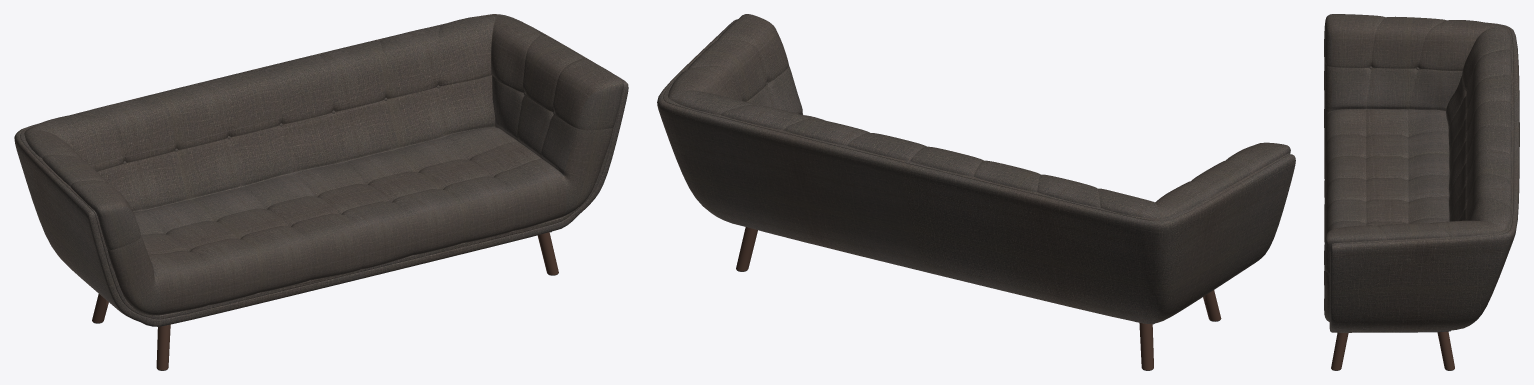
The model's file is 2a21836a-3e98-488e-bf2e-1139f5720ece.glb.
3 views of the same model, side by side, from view 1: azimuth 30°, elevation 25°; view 2: azimuth 150°, elevation 25°; view 3: azimuth 270°, elevation 25° (orthographic). The views are drawn at different scales.
Parts seen in each view (by area): view 1: Chair, Chair_Back, polySurface13, polySurface17; view 2: Chair_Back, Chair, polySurface19, polySurface18; view 3: Chair, Chair_Back, polySurface18, polySurface17.
Boxes of the visible parts, x1,y1,x2,y2 form: Chair: [24, 15, 623, 315]; Chair_Back: [14, 14, 628, 326]; polySurface13: [156, 324, 170, 370]; polySurface17: [537, 232, 558, 274]; Chair_Back: [657, 19, 1295, 323]; Chair: [668, 14, 1290, 218]; polySurface19: [1139, 322, 1153, 370]; polySurface18: [736, 227, 757, 271]; Chair: [1324, 14, 1511, 322]; Chair_Back: [1329, 22, 1519, 332]; polySurface18: [1437, 331, 1454, 370]; polySurface17: [1331, 332, 1348, 370].
Bounding box in the file's own units: 1.2 × 0.3872 × 0.428.
4 materials, 1 textured.
